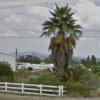Palm tree: (38, 3, 86, 65)
